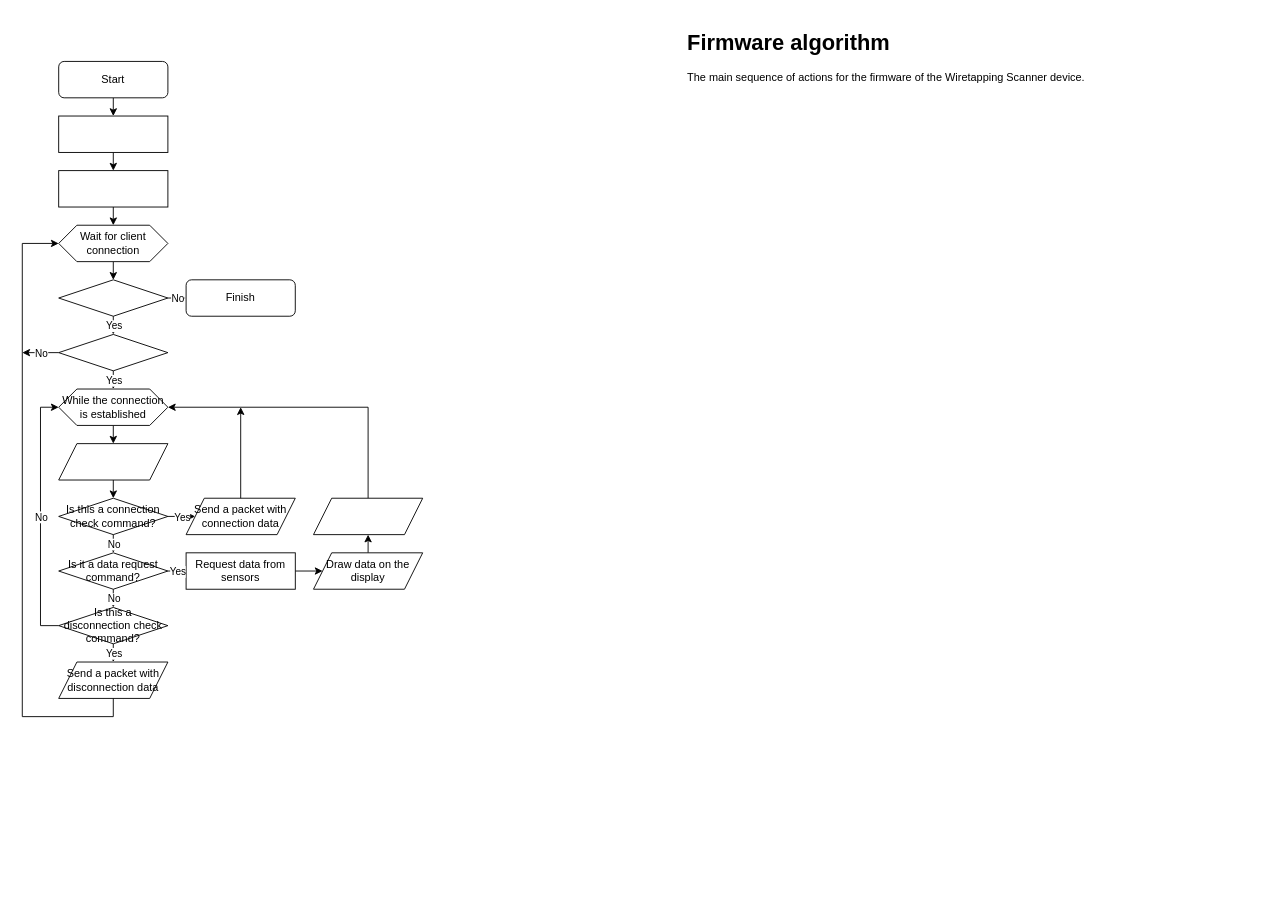
The diagram is 1281 pixels wide and 914 high, and some of its shapes have lost their labels. Each missing label, with the box of its shape:
Does the device continue to work?: (58, 279, 168, 316)
Establish connection with router: (58, 115, 168, 152)
Get a command: (58, 443, 168, 480)
Initialize sensors: (58, 170, 168, 207)
Is the client connected?: (58, 334, 168, 371)
Send data packet to client: (313, 497, 423, 535)
